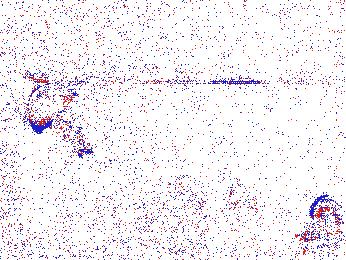flame jellyfish: (26, 83, 94, 158), (202, 177, 263, 233), (295, 194, 346, 245)
